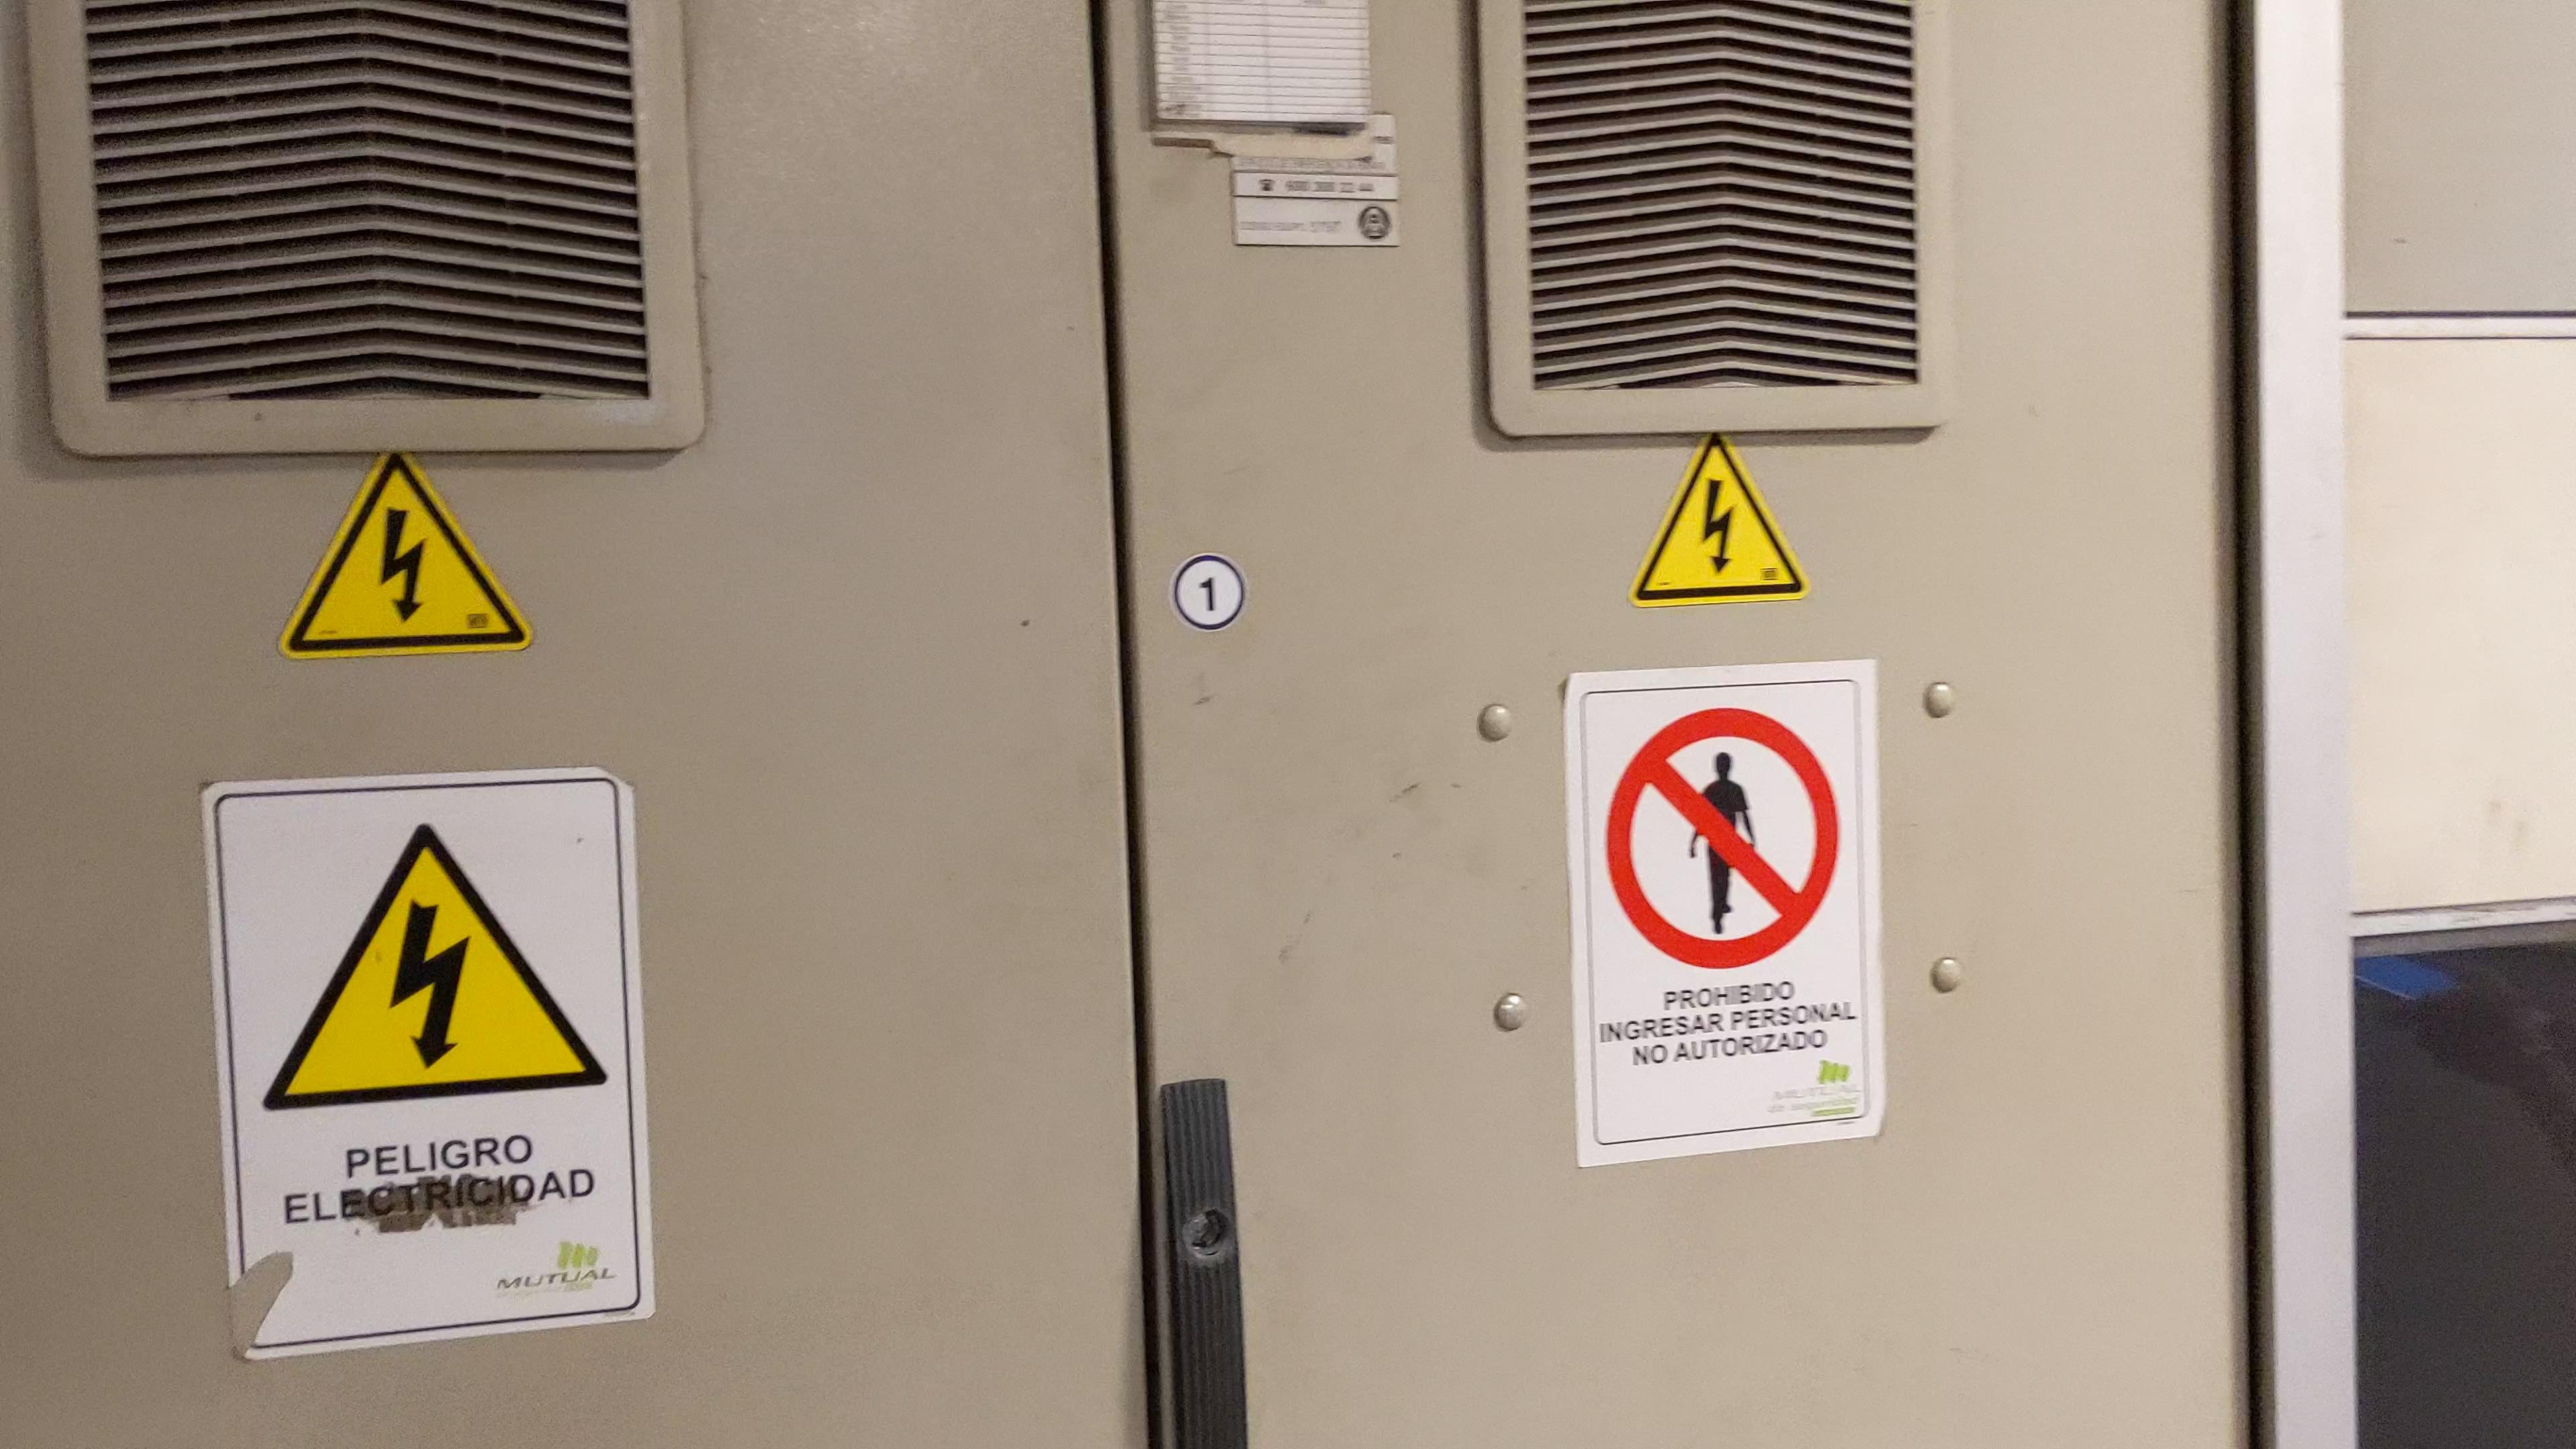danger-electricity: (262, 821, 610, 1118), (280, 442, 534, 660), (1629, 435, 1810, 610)
